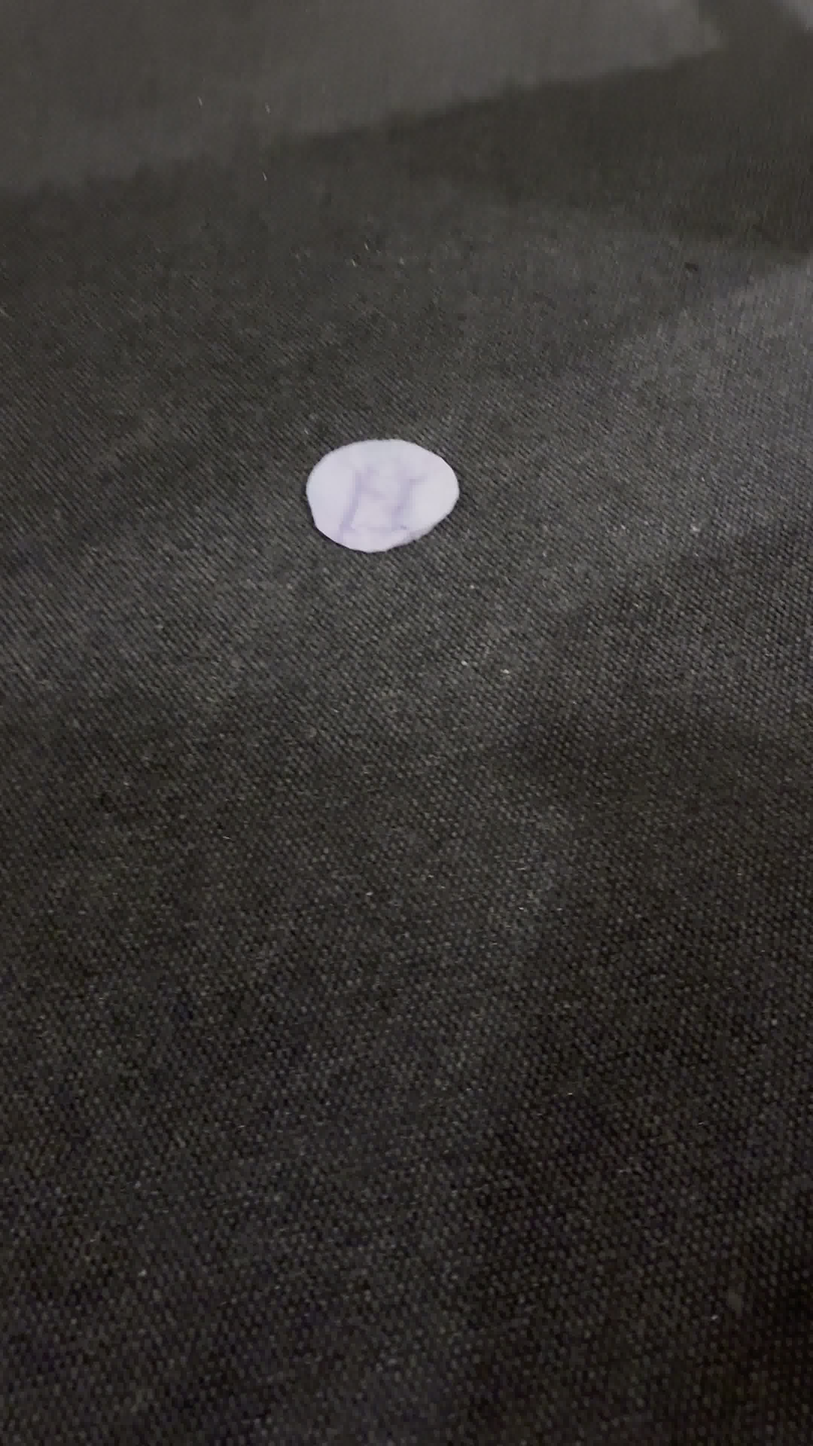Target: (305, 439, 459, 553)
